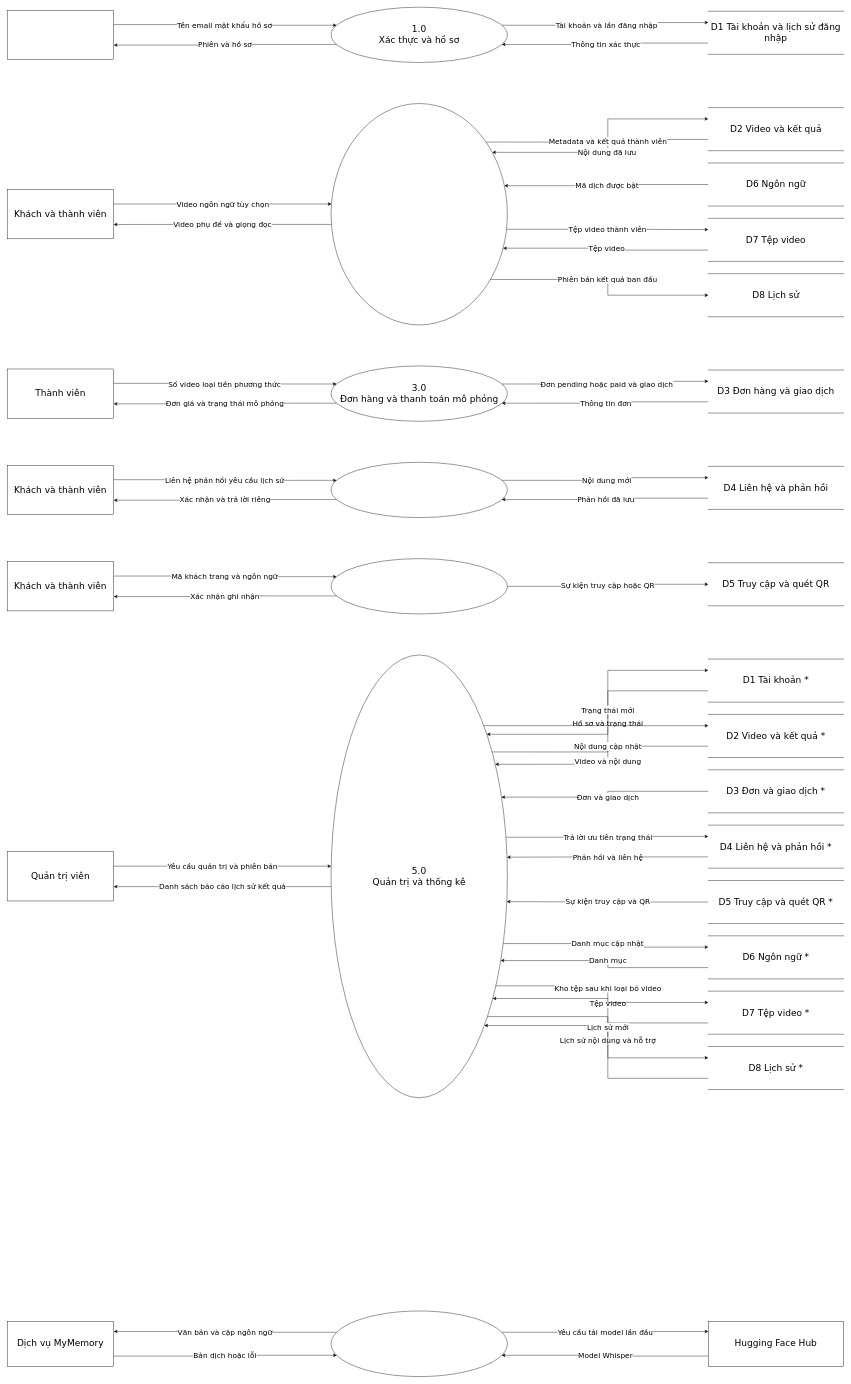
This 851x1384 diagram has some shape labels left out. The centre of each missing label's shape, as x and y in pixels:
2.0 Xử lý video và phát lại: (419,214)
2.0 Xử lý video và phát lại *: (419,1344)
4.0 Liên hệ và phản hồi: (419,490)
6.0 Ghi nhận truy cập và QR: (419,586)
Khách, thành viên và quản trị: (60,34)
